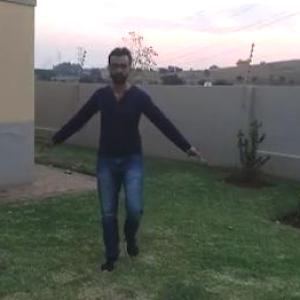land: (50, 35, 228, 286)
